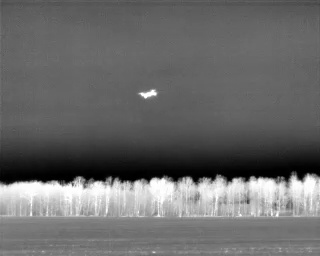DRONE: (135, 84, 162, 103)
